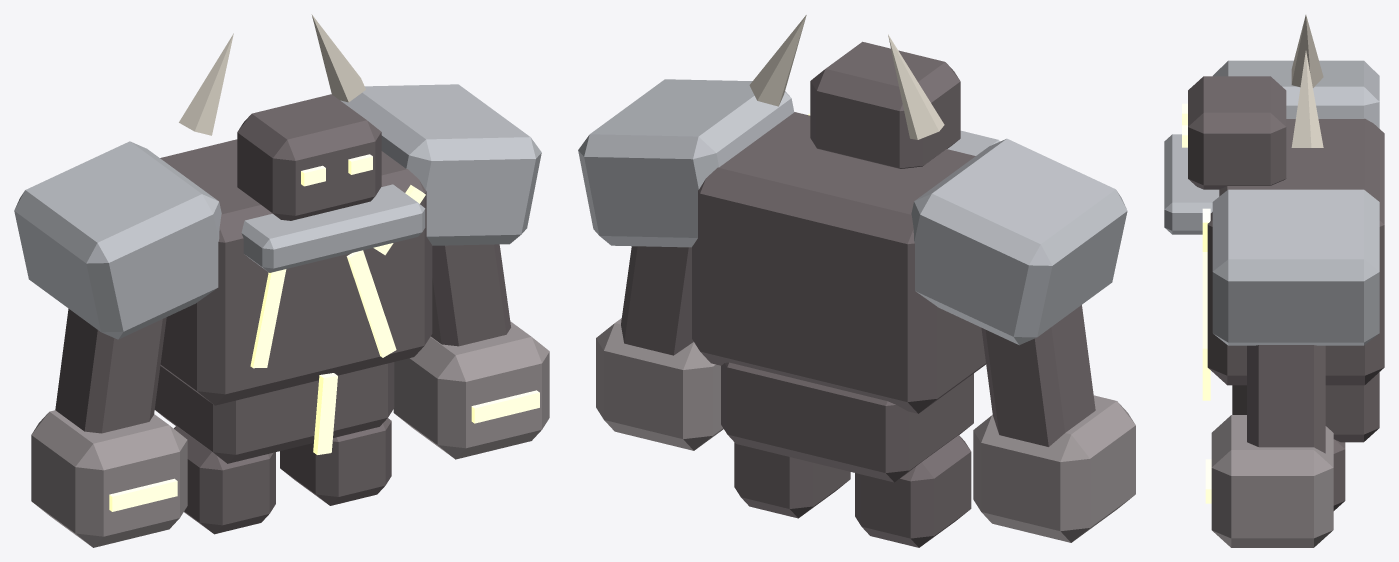
Rendered from EN_Ember_CinderBrute.fbx.
3 views of the same model, side by side, from view 1: azimuth 30°, elevation 25°; view 2: azimuth 150°, elevation 25°; view 3: azimuth 270°, elevation 25° (orthographic). The views are drawn at different scales.
Parts seen in each view (by area): view 1: EN_Ember_CinderBrute; view 2: EN_Ember_CinderBrute; view 3: EN_Ember_CinderBrute.
Boxes of the visible parts, bbox=[...] form: EN_Ember_CinderBrute: bbox=[14, 14, 549, 547]; EN_Ember_CinderBrute: bbox=[578, 15, 1135, 547]; EN_Ember_CinderBrute: bbox=[1164, 15, 1384, 547].
Size of the model in its own units: 2.62 by 2.5 by 1.12.
